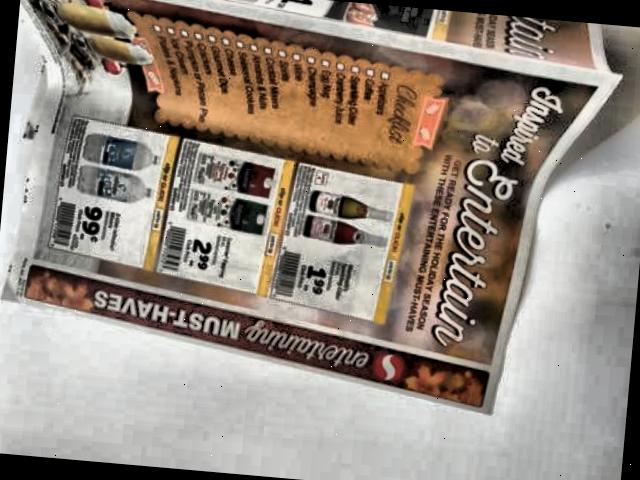Paper: (0, 0, 632, 435)
